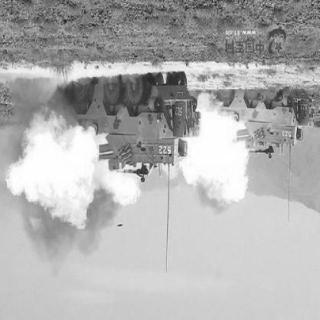Fire: (174, 101, 252, 220)
